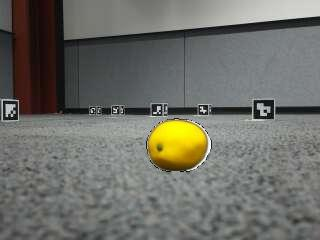lemon: (147, 121, 206, 171)
